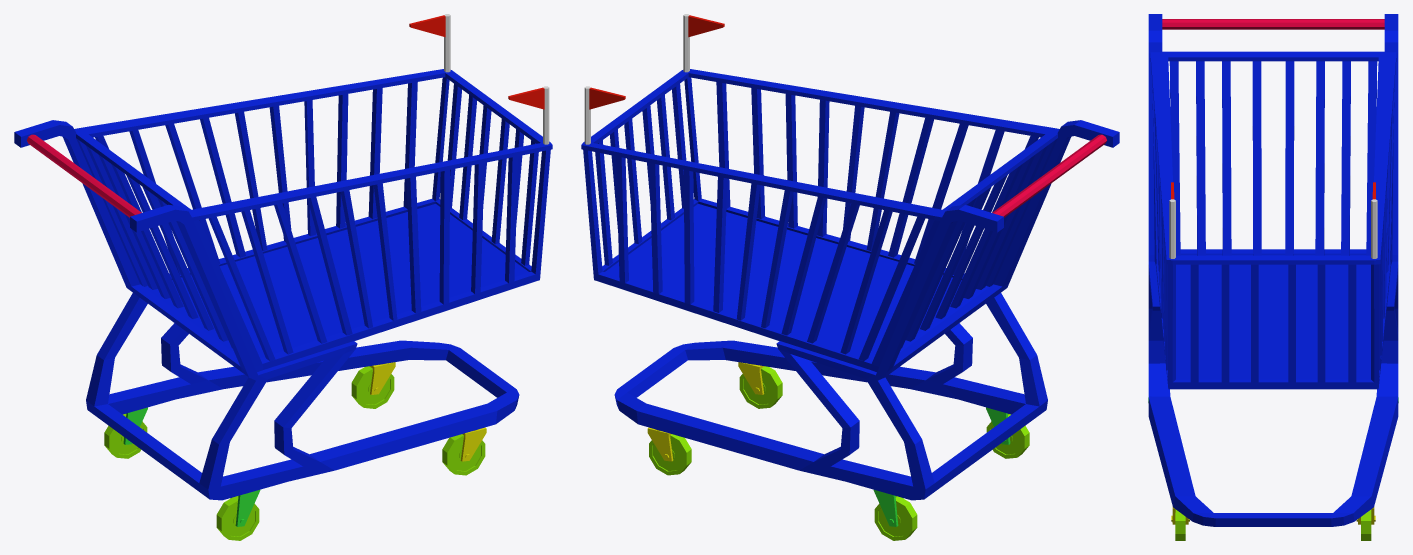
File: Shopping Cart.fbx
3 renders of one model, left to right at view 1: azimuth 30°, elevation 25°; view 2: azimuth 150°, elevation 25°; view 3: azimuth 270°, elevation 25°, orthographic. The views are drawn at different scales.
Parts seen in each view (by area): view 1: Shoppingcart, SHC vlag, SHC handle, SHC Wiel, SHC Wiel .002, SHC Wiel .001, SHC achterwiel houder, SHC Wiel .003; view 2: Shoppingcart, SHC vlag, SHC handle, SHC Wiel .003, SHC Wiel .001, SHC Wiel .002, SHC achterwiel houder, SHC Wiel; view 3: Shoppingcart, SHC handle, SHC vlag, SHC Wiel .001, SHC Wiel .002.
Part boxes in pixels (<box>): Shoppingcart: <box>14,69,552,500</box>; SHC vlag: <box>409,14,549,144</box>; SHC handle: <box>27,134,141,217</box>; SHC Wiel: <box>216,496,259,540</box>; SHC Wiel .002: <box>351,366,394,408</box>; SHC Wiel .001: <box>442,434,485,475</box>; SHC achterwiel houder: <box>123,407,260,526</box>; SHC Wiel .003: <box>104,414,147,458</box>; Shoppingcart: <box>581,69,1119,500</box>; SHC vlag: <box>584,14,724,144</box>; SHC handle: <box>992,134,1106,217</box>; SHC Wiel .003: <box>874,496,917,540</box>; SHC Wiel .001: <box>739,366,782,408</box>; SHC Wiel .002: <box>649,434,691,475</box>; SHC achterwiel houder: <box>873,407,1010,526</box>; SHC Wiel: <box>986,414,1029,458</box>; Shoppingcart: <box>1148,14,1398,526</box>; SHC handle: <box>1162,19,1384,29</box>; SHC vlag: <box>1169,182,1377,258</box>; SHC Wiel .001: <box>1175,509,1185,540</box>; SHC Wiel .002: <box>1361,509,1371,540</box>.
Size of the model in its own units: 141 by 117 by 70.26.
